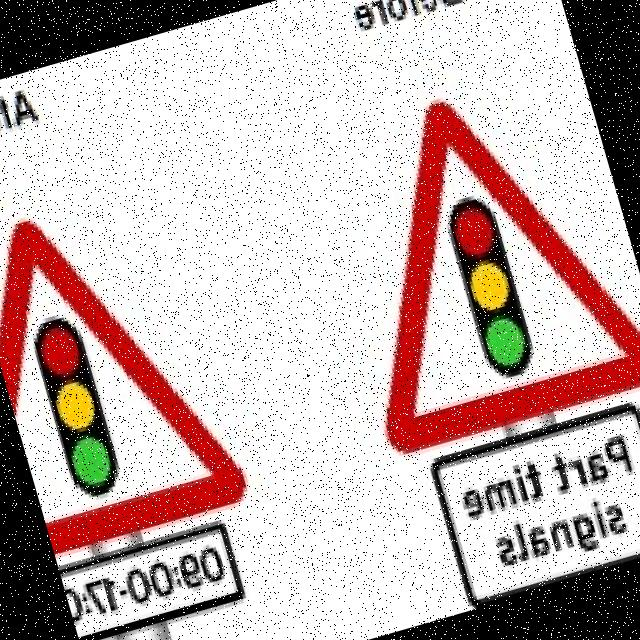light_traffic: (299, 57, 640, 466), (0, 169, 257, 562)
